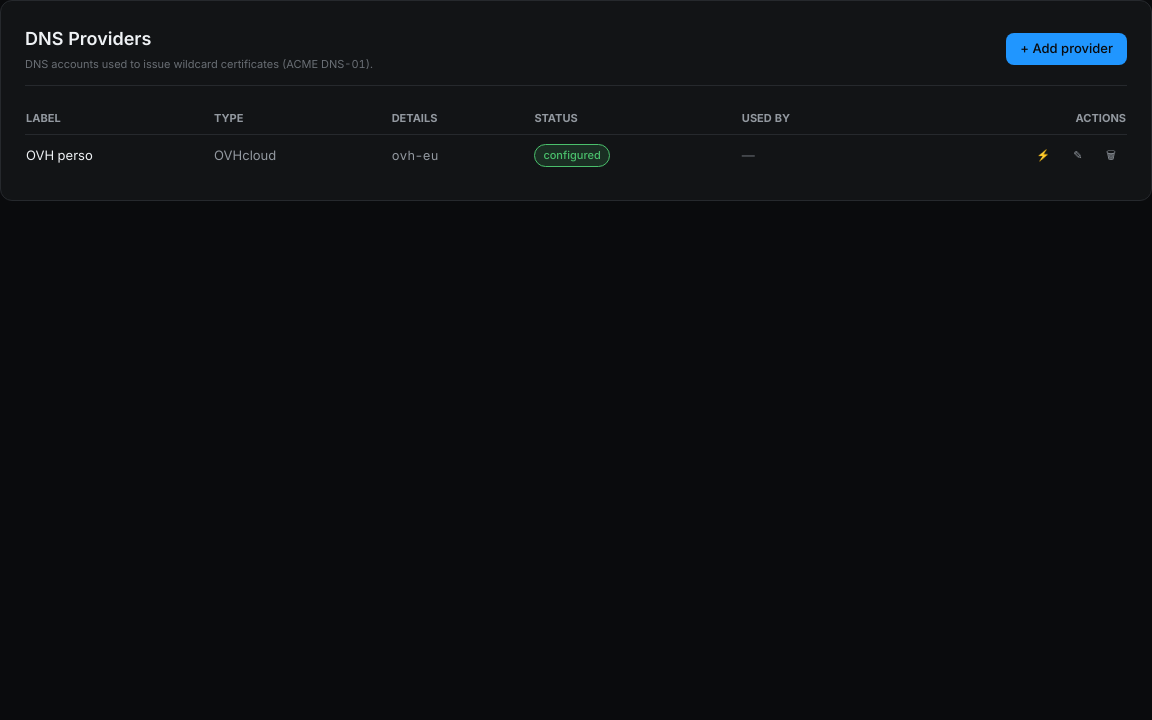
Test: DNSProvidersSection › delete-allowed: resolves, toasts success, refetches without the row
Click the button with test id "dns-provider-delete-id-1": (1111, 155) top-left (1096, 143), bottom-right (1126, 168)
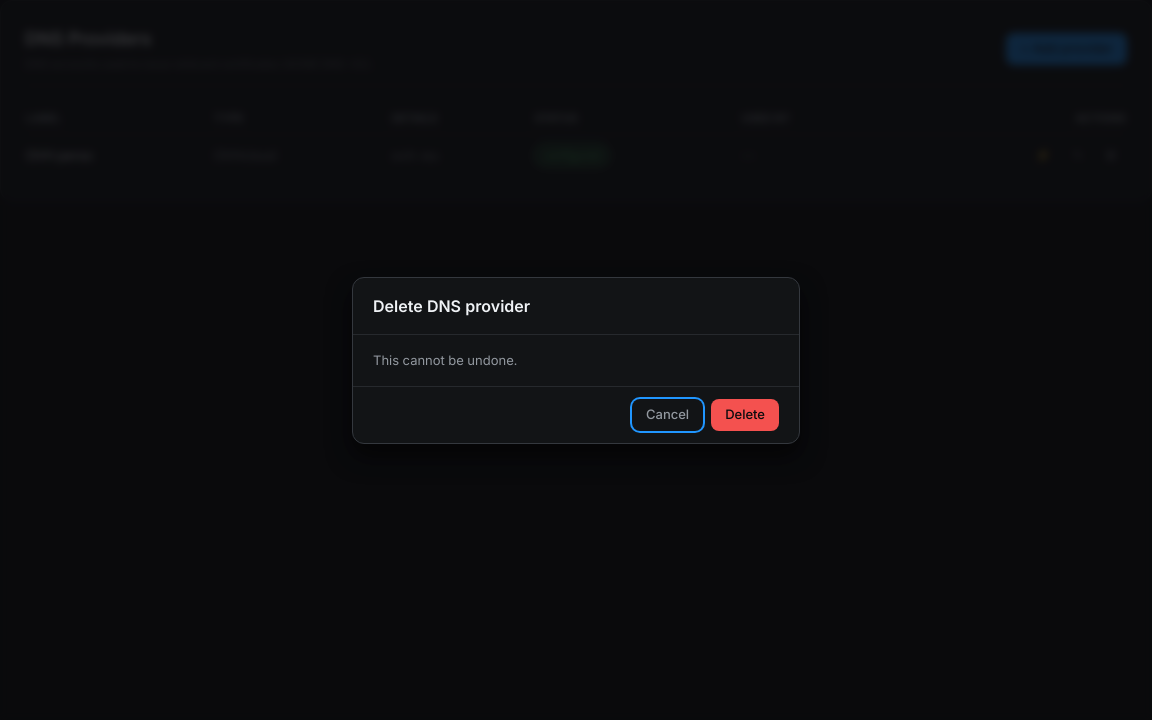
expect the button "Delete" is shown: met
Click the button "Delete": (745, 415) top-left (711, 399), bottom-right (779, 430)
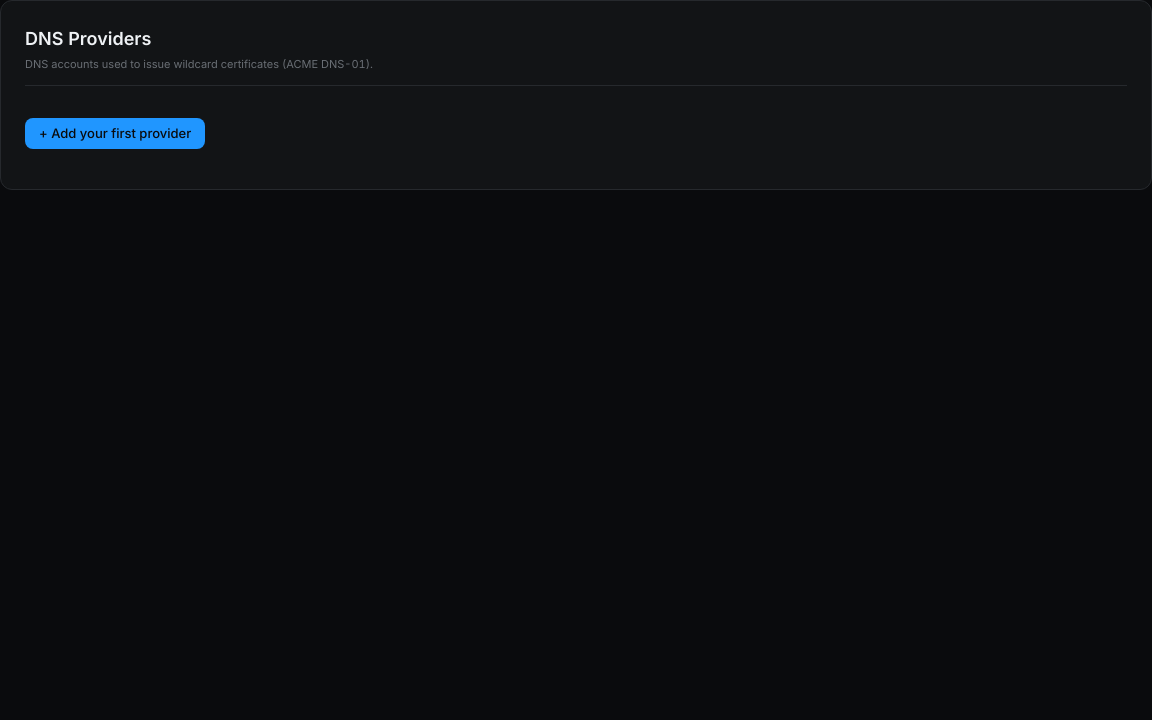
expect the row with test id "dns-provider-row-id-1" is gone: met
